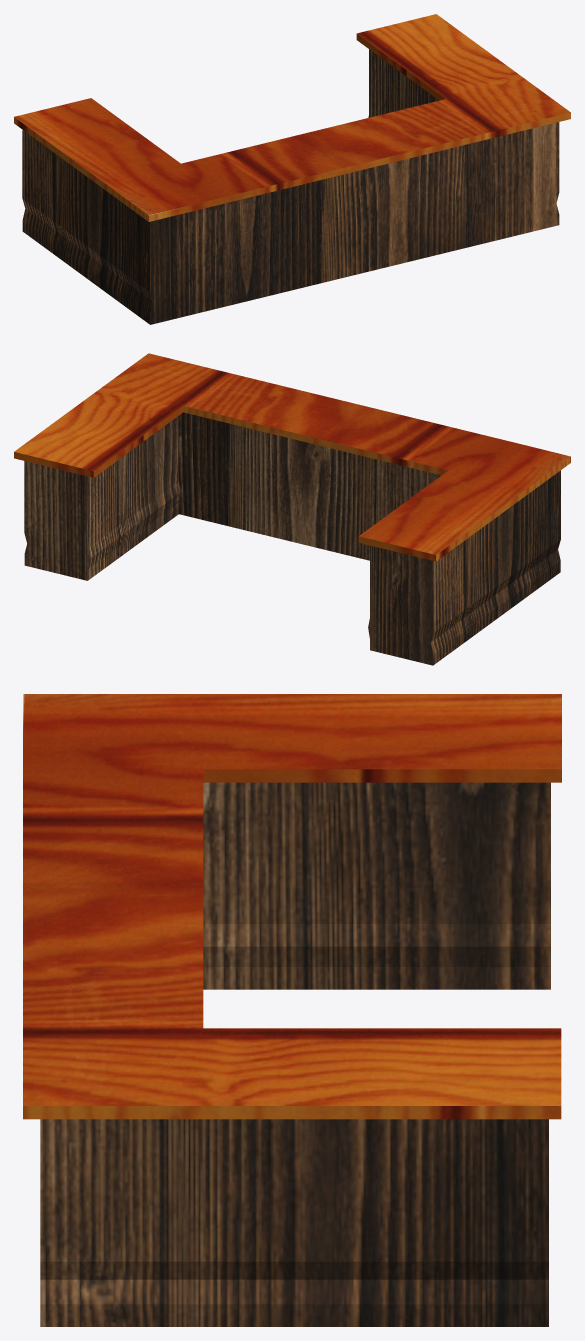
Rendered from barra.FBX.
The picture shows the model from 3 angles, top to bottom: view 1: azimuth 30°, elevation 25°; view 2: azimuth 150°, elevation 25°; view 3: azimuth 270°, elevation 25°; orthographic projection. The views are drawn at different scales.
Parts seen in each view (by area): view 1: base, barra; view 2: base, barra; view 3: base, barra.
Part boxes in pixels (x1=…): base: x1=22, y1=49, x2=559, y2=324; barra: x1=14, y1=14, x2=570, y2=221; base: x1=24, y1=412, x2=560, y2=665; barra: x1=14, y1=353, x2=570, y2=561; base: x1=40, y1=782, x2=550, y2=1326; barra: x1=23, y1=694, x2=561, y2=1119.
Size of the model in its own units: 134 by 34.63 by 74.19.
